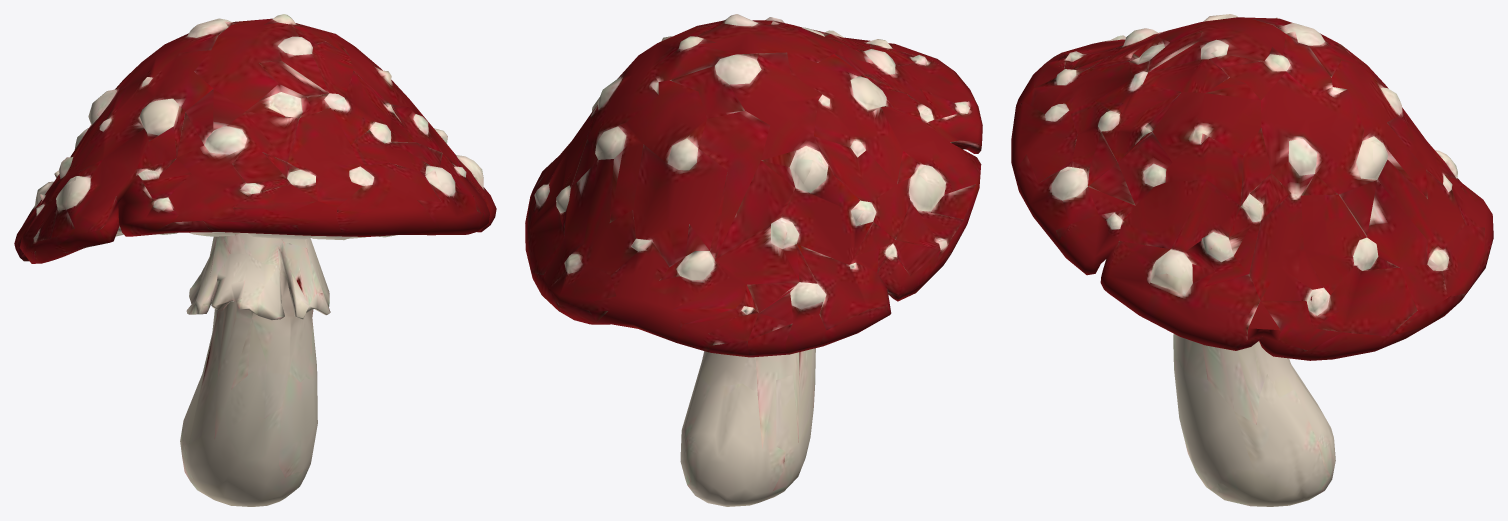
File: mantar.glb
The picture shows the model from 3 angles, left to right: view 1: azimuth 30°, elevation 25°; view 2: azimuth 150°, elevation 25°; view 3: azimuth 270°, elevation 25°; orthographic projection. The views are drawn at different scales.
Visible parts, largest first — view 1: prop; view 2: prop; view 3: prop.
Part boxes in pixels (bbox=[...]): prop: bbox=[14, 14, 496, 506]; prop: bbox=[525, 14, 982, 506]; prop: bbox=[1011, 14, 1493, 506].
Size of the model in its own units: 1.83 by 1.9 by 1.78.
1 material, 1 textured.
